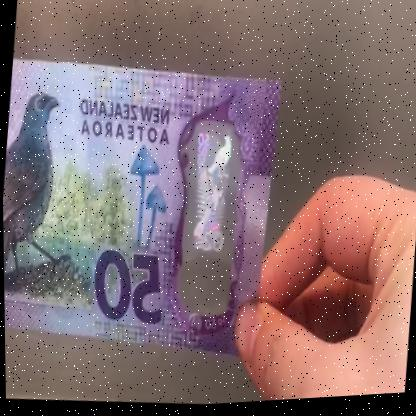50B: (179, 128, 237, 312)
